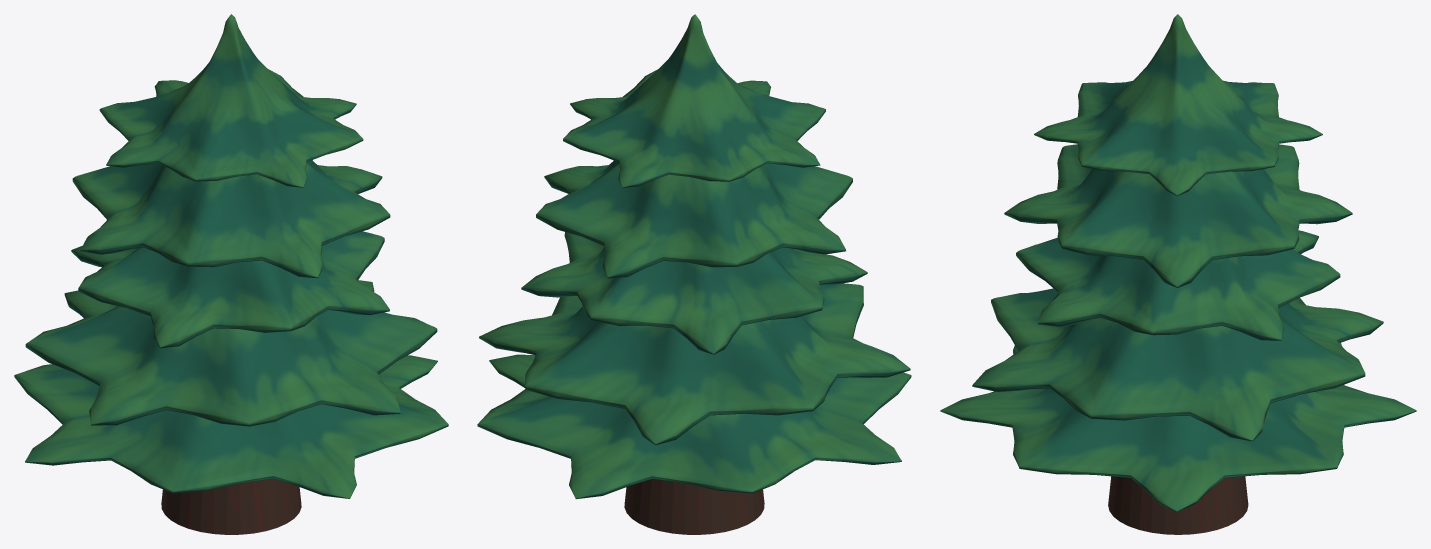
File: arbre_02.glb
3 views of the same model, side by side, from view 1: azimuth 30°, elevation 25°; view 2: azimuth 150°, elevation 25°; view 3: azimuth 270°, elevation 25° (orthographic).
Parts seen in each view (by area): view 1: branche, tronc; view 2: branche, tronc; view 3: branche, tronc.
Part boxes in pixels (x1,y1,x2,y2): branche: [14, 14, 448, 498]; tronc: [161, 478, 301, 534]; branche: [477, 14, 911, 499]; tronc: [624, 479, 764, 534]; branche: [940, 14, 1416, 511]; tronc: [1108, 476, 1248, 534].
Size of the model in its own units: 1.61 by 1.84 by 1.61.
2 materials, 2 textured.
